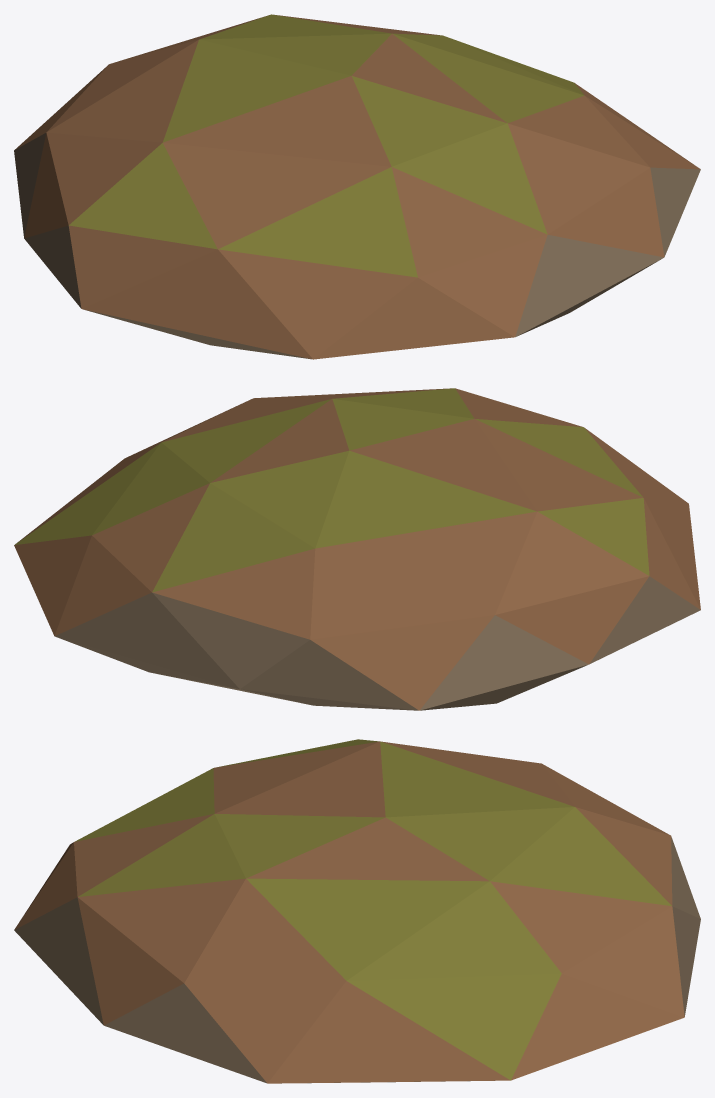
Rendered from SM_Mound_A.fbx.
The picture shows the model from 3 angles, top to bottom: view 1: azimuth 30°, elevation 25°; view 2: azimuth 150°, elevation 25°; view 3: azimuth 270°, elevation 25°; orthographic projection. The views are drawn at different scales.
Parts seen in each view (by area): view 1: SM_Mound_A; view 2: SM_Mound_A; view 3: SM_Mound_A.
Boxes of the visible parts, x1,y1,x2,y2 form: SM_Mound_A: (14,14,700,359); SM_Mound_A: (14,388,700,710); SM_Mound_A: (14,739,700,1083).
Size of the model in its own units: 5.22 by 5.07 by 1.15.
